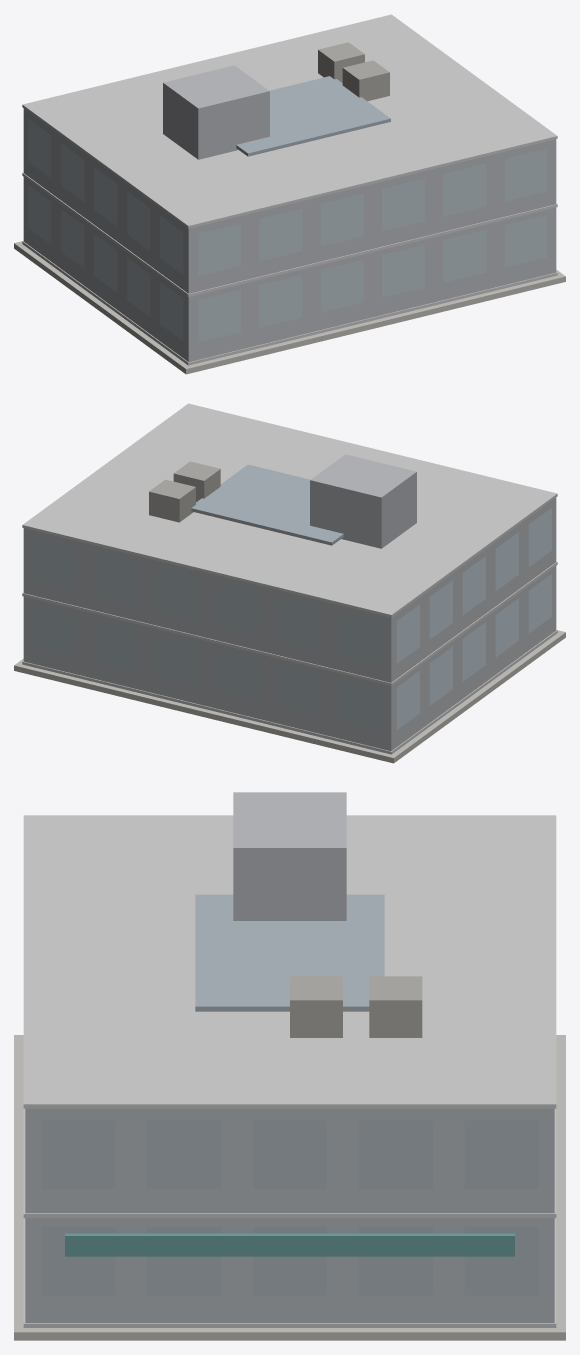
The model's file is 14_public_services-05.glb.
3 views of the same model, one above another, from view 1: azimuth 30°, elevation 25°; view 2: azimuth 150°, elevation 25°; view 3: azimuth 270°, elevation 25° (orthographic). The views are drawn at different scales.
Bounding box in the file's own units: 18.6 × 9.18 × 14.6.
